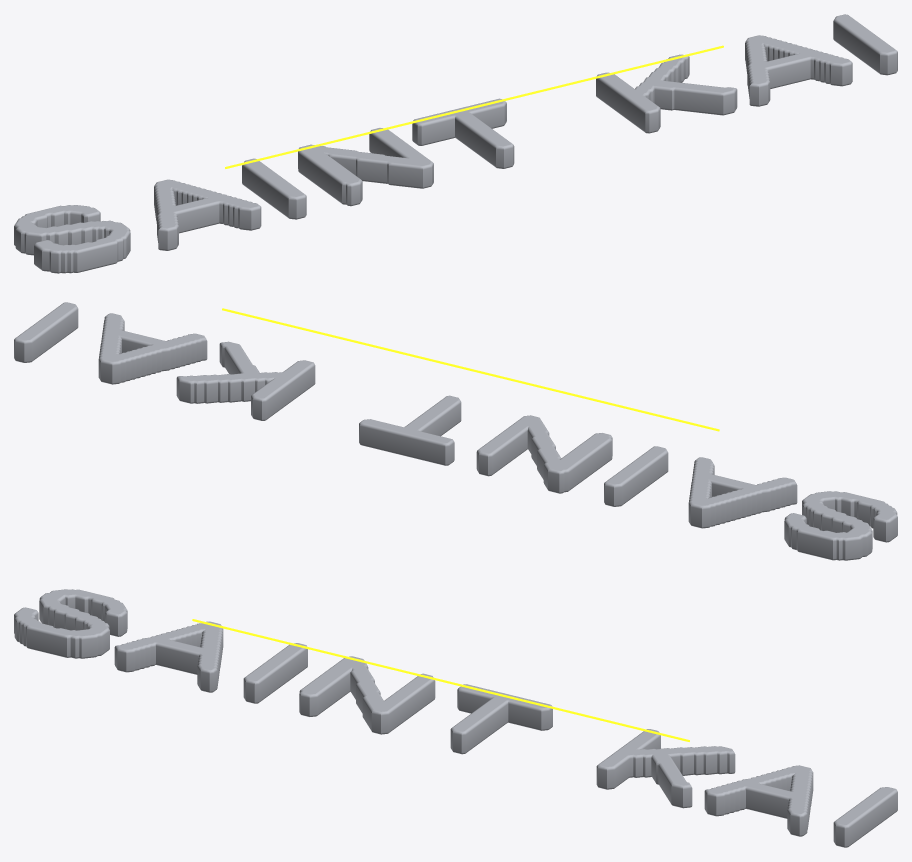
File: saint-kai-04.glb
3 views of the same model, one above another, from view 1: azimuth 30°, elevation 25°; view 2: azimuth 150°, elevation 25°; view 3: azimuth 330°, elevation 25° (orthographic).
Visible parts, largest first — view 1: SaintKai04Silver, AcidSignal; view 2: SaintKai04Silver, AcidSignal; view 3: SaintKai04Silver, AcidSignal.
Boxes of the visible parts, <box> form: SaintKai04Silver: <box>14,14,897,273</box>; AcidSignal: <box>225,45,723,168</box>; SaintKai04Silver: <box>14,302,897,560</box>; AcidSignal: <box>222,308,719,431</box>; SaintKai04Silver: <box>14,589,897,847</box>; AcidSignal: <box>192,619,689,741</box>.
Bounding box in the file's own units: 3.55 × 0.248 × 0.38.
